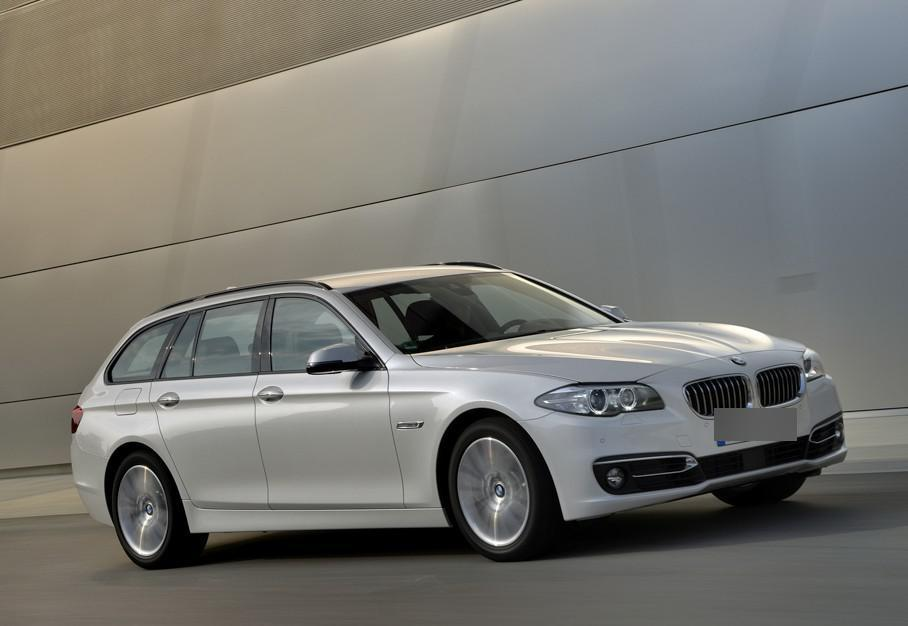Wagon: (69, 260, 851, 570)
